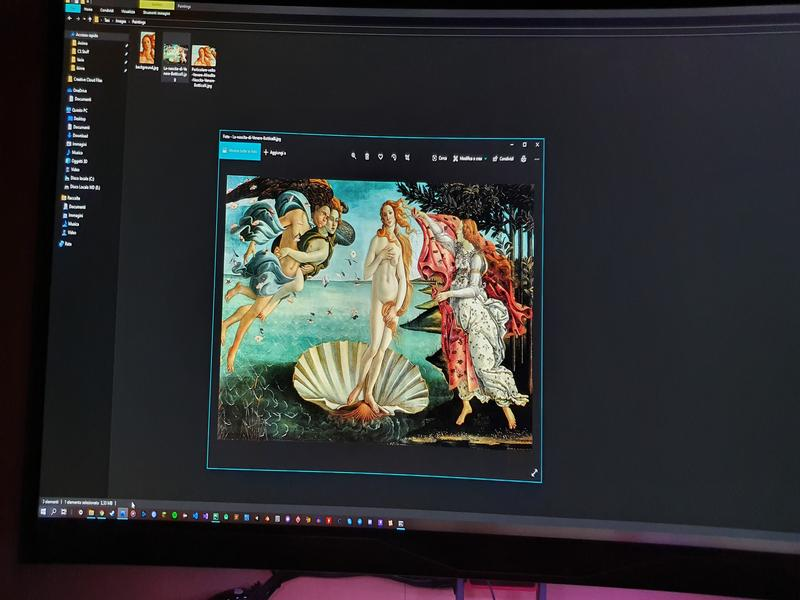Venere: (213, 175, 538, 445)
